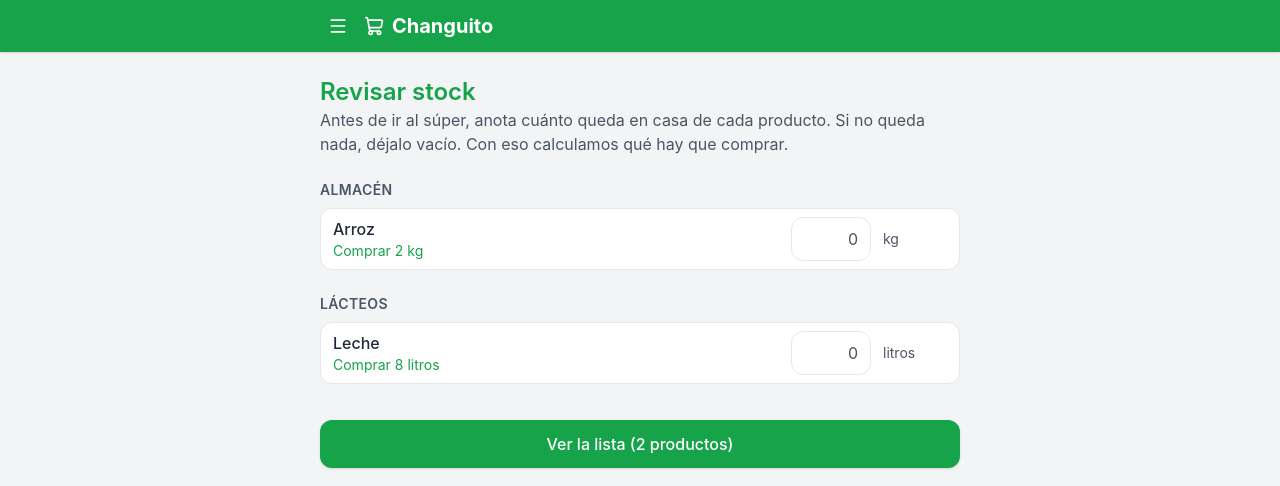
Test: StockReviewPage › suggests how much to buy as the remaining stock is entered
Expected: the text "Comprar 8 litros" is shown, [333,356,440,373]
In the field named "¿Cuánto queda de Leche?": point(831, 353) [791,331,871,375], type "3"
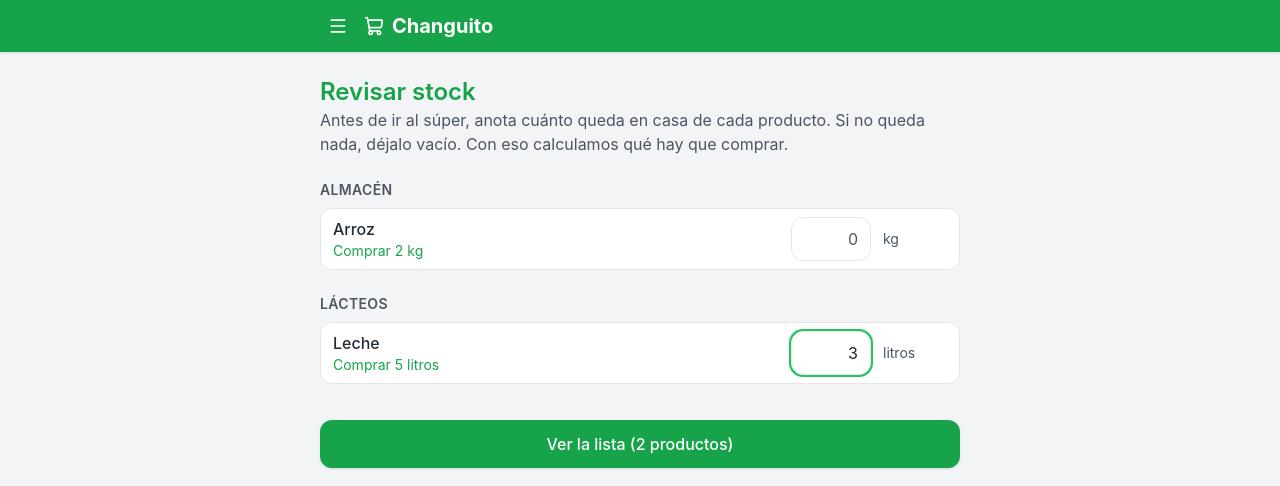
Now the text "Comprar 5 litros" is shown, box [333,356,439,373]
Replace the text in the field named "¿Cuánto queda de Leche?" with "9": point(831, 353) [791,331,871,375]
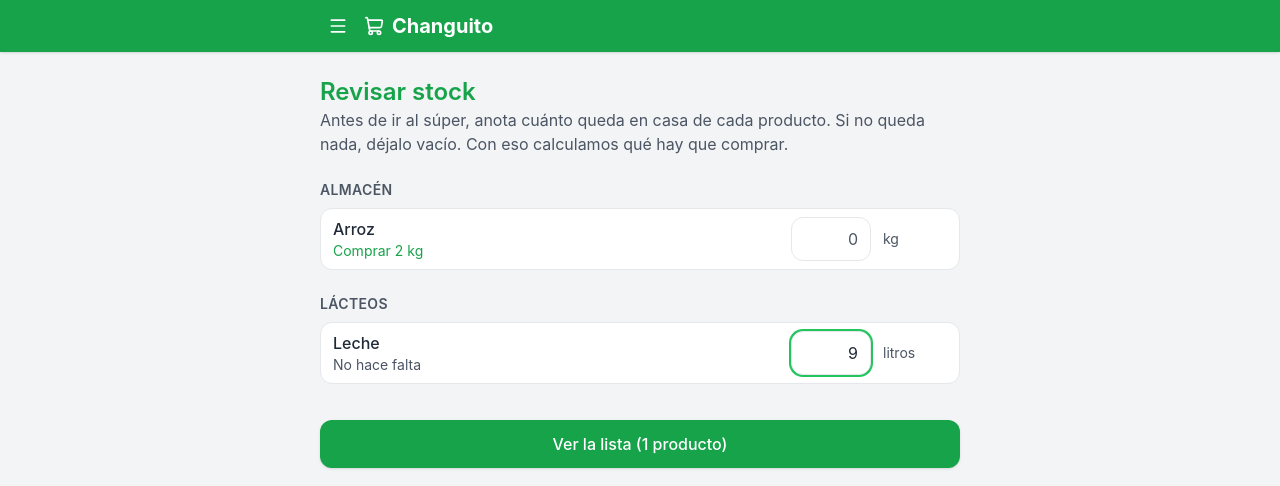
Now the text "No hace falta" is shown, box [333,356,421,373]
